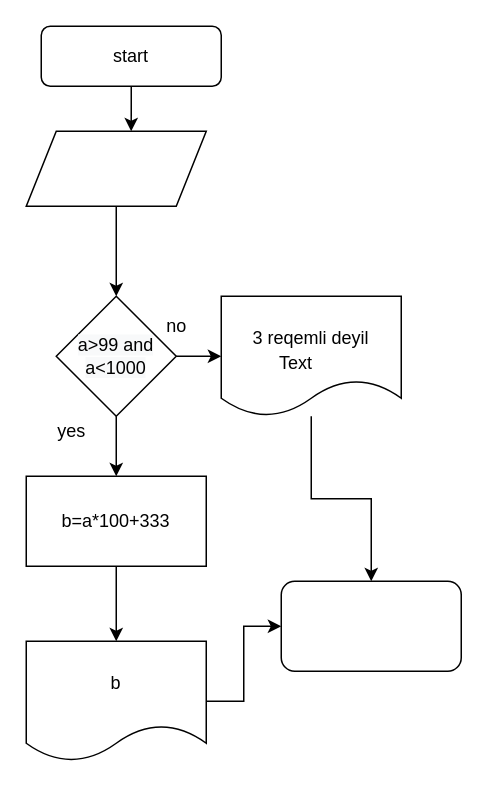
Some shapes in this 488 by 788 pixel diagram are drawn without their labels. The centre of each missing label's shape, as x and y in pixels:
a=332 b: pixel 115 168
end: pixel 370 625
